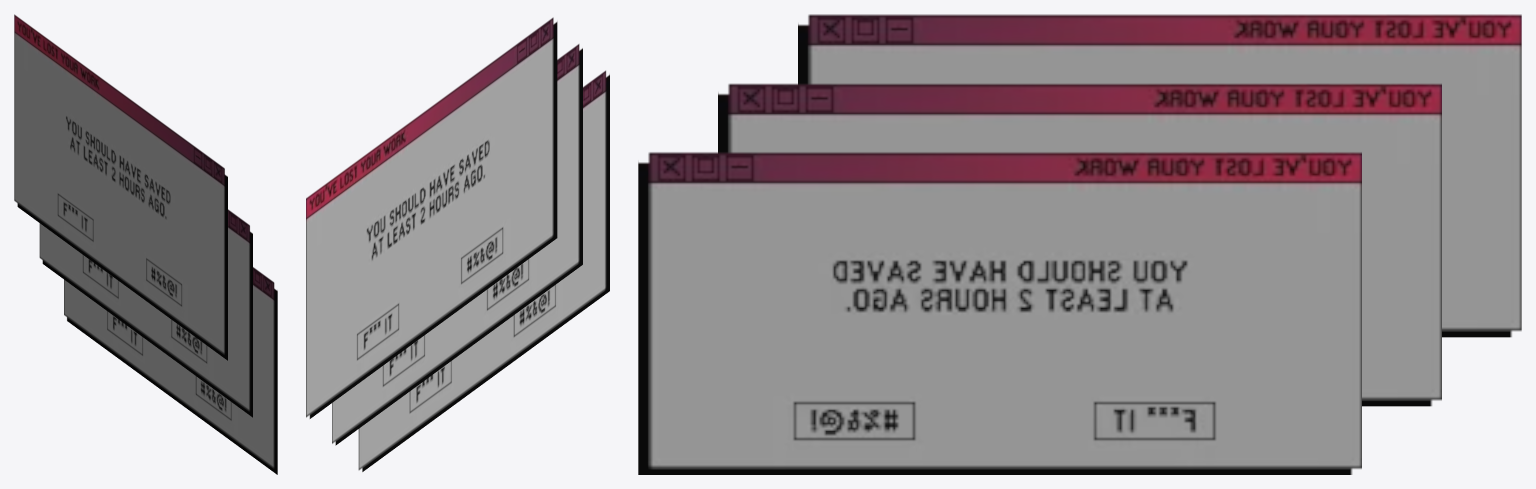
The model's file is pm-frame-program-retro-06.glb.
3 renders of one model, left to right at view 1: azimuth 30°, elevation 25°; view 2: azimuth 150°, elevation 25°; view 3: azimuth 270°, elevation 25°, orthographic. The views are drawn at different scales.
Visible parts, largest first — view 1: Frame_Program_Retro_06; view 2: Frame_Program_Retro_06; view 3: Frame_Program_Retro_06.
Boxes of the visible parts, x1,y1,x2,y2 form: Frame_Program_Retro_06: (14,14,277,474); Frame_Program_Retro_06: (306,17,609,471); Frame_Program_Retro_06: (638,14,1521,474).
Size of the model in its own units: 0.0228 by 2.48 by 4.33.
Materials: 1 (1 with a texture image).
